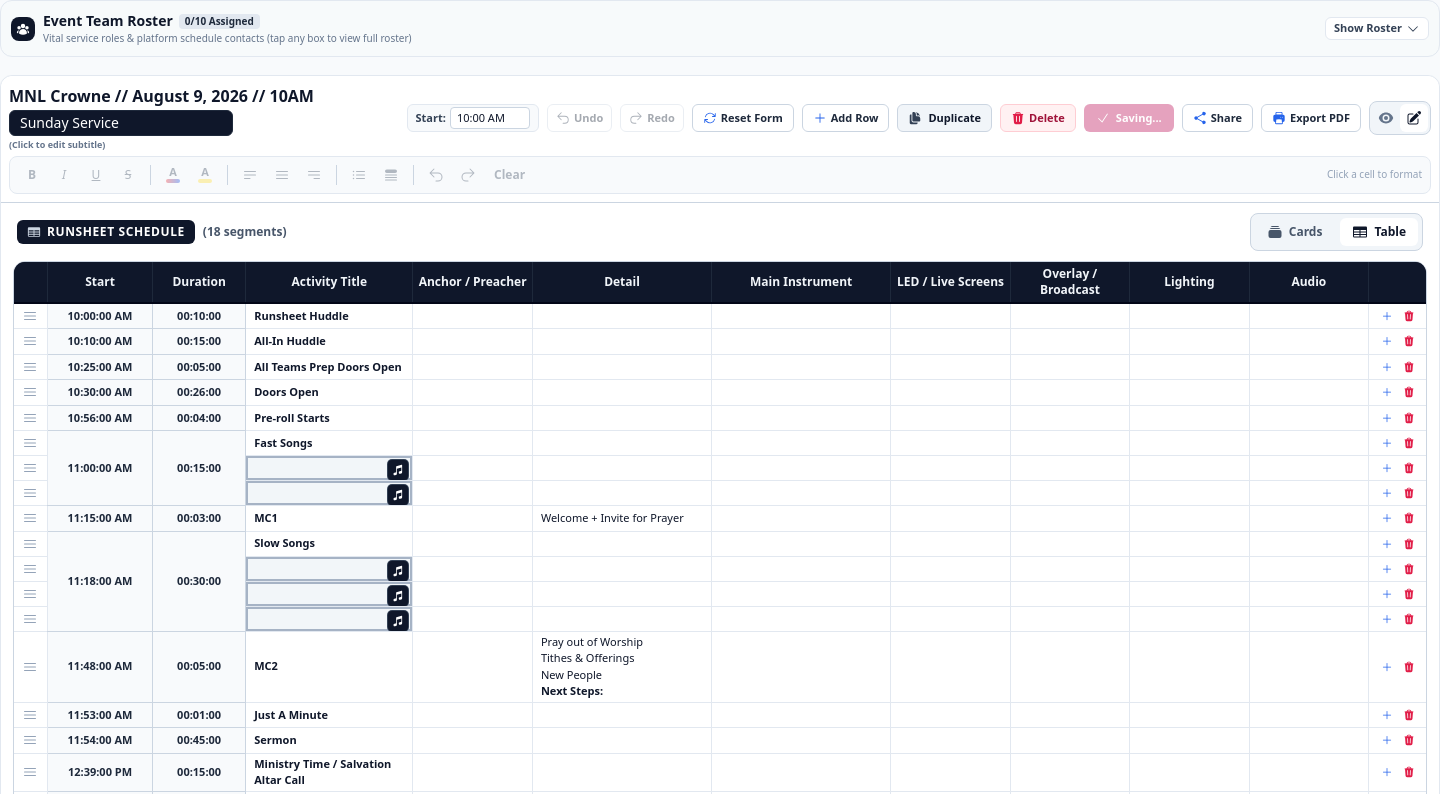
RunsheetTableEditor duplicate campus scope › offers every category to a Global user
Click the button "Duplicate": (945,118) [897,104,992,132]
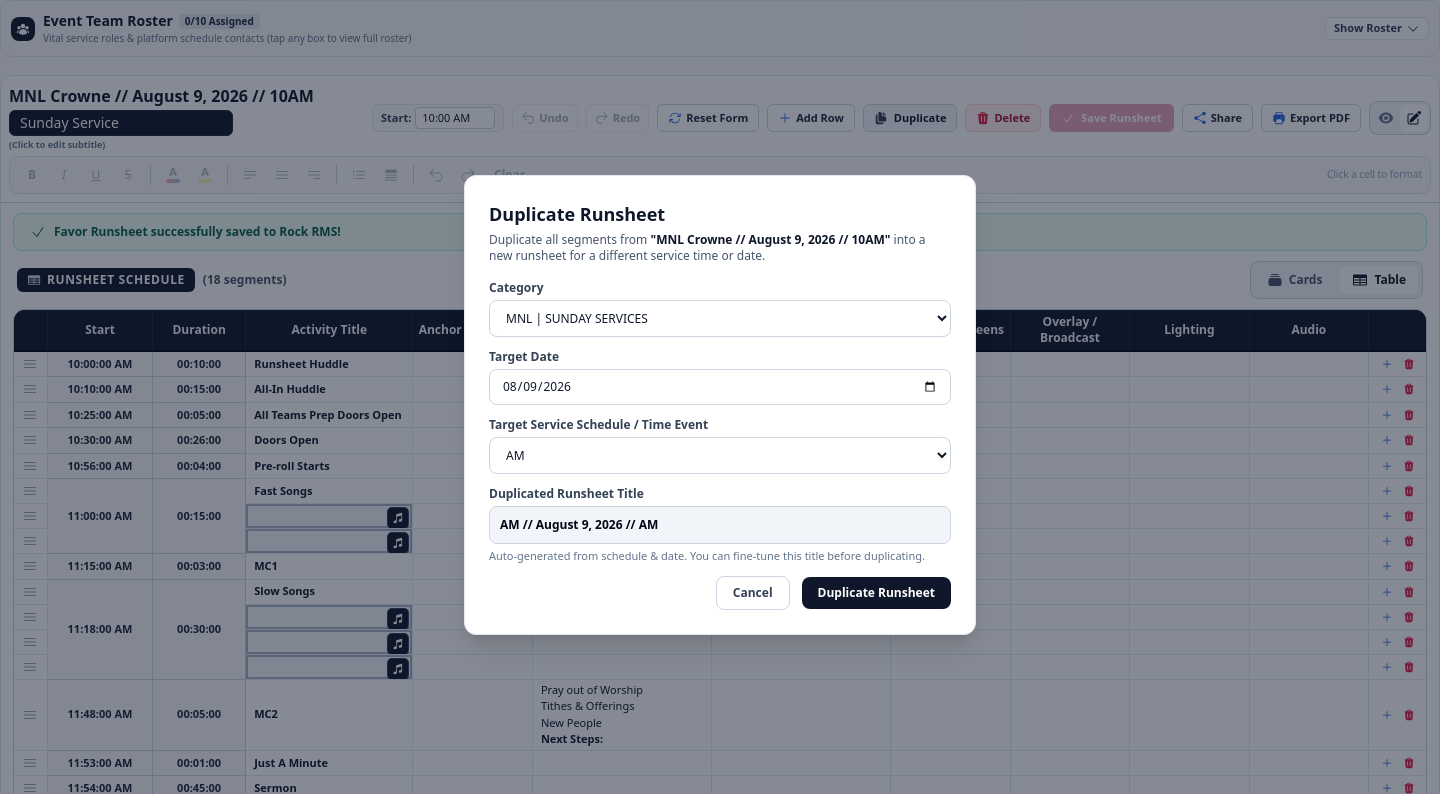
Expected: the heading "Duplicate Runsheet" is shown, [489,202,665,226]
